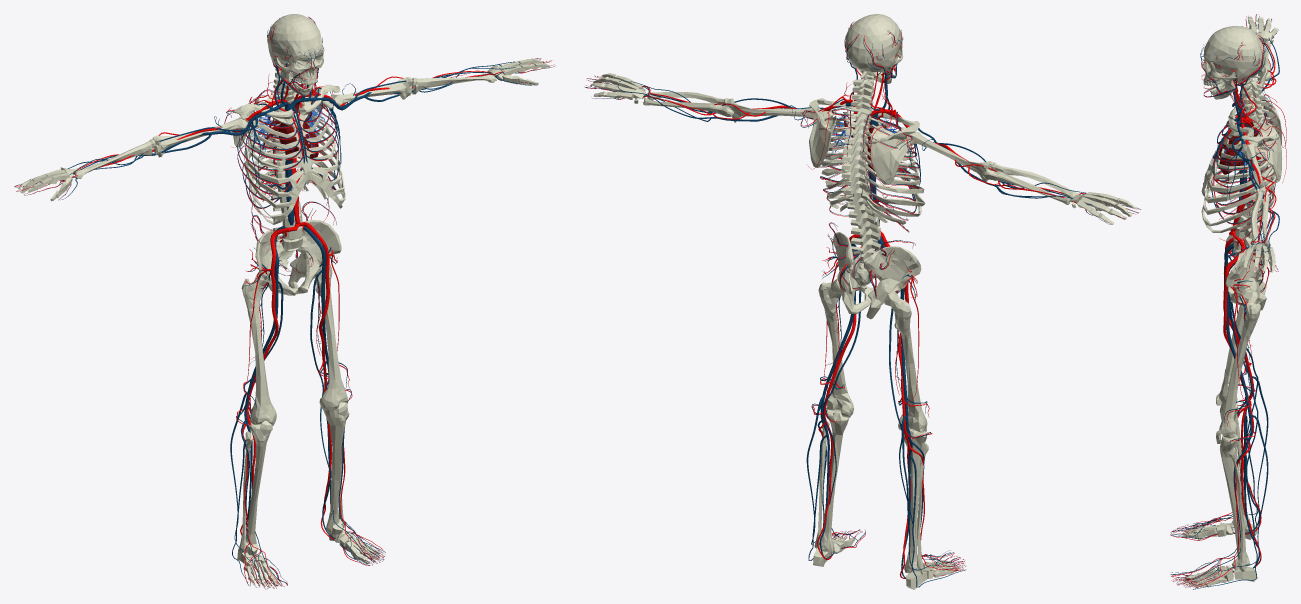
File: skeleton_veins.fbx
The picture shows the model from 3 angles, left to right: view 1: azimuth 30°, elevation 25°; view 2: azimuth 150°, elevation 25°; view 3: azimuth 270°, elevation 25°; orthographic projection. The views are drawn at different scales.
Visible parts, largest first — view 1: Veins, Arteries, Thorax, Basin, Head, Right_Upperleg, Right_Lowerleg, Left_Lowerleg, Left_Upperleg, Right_Foot, Left_Foot, Left_Hand (+7 smaller); view 2: Veins, Arteries, Thorax, Basin, Head, Right_shoulder, Right_Upperleg, Right_Lowerleg, Left_Lowerleg, Left_Upperleg, Left_shoulder, Right_Forearm (+8 smaller); view 3: Veins, Arteries, Thorax, Head, Left_Upperleg, Left_Lowerleg, Basin, Left_shoulder, Left_Foot, Left_Hand, Neck, Right_Foot (+9 smaller).
Boxes of the visible parts, x1=… form: Veins: x1=14, y1=17, x2=554, y2=588; Arteries: x1=14, y1=16, x2=553, y2=589; Thorax: x1=244, y1=92, x2=345, y2=224; Basin: x1=255, y1=220, x2=341, y2=295; Head: x1=267, y1=14, x2=323, y2=82; Right_Upperleg: x1=241, y1=272, x2=276, y2=425; Right_Lowerleg: x1=239, y1=420, x2=272, y2=552; Left_Lowerleg: x1=323, y1=402, x2=349, y2=534; Left_Upperleg: x1=314, y1=264, x2=347, y2=411; Right_Foot: x1=237, y1=542, x2=278, y2=587; Left_Foot: x1=328, y1=519, x2=380, y2=563; Left_Hand: x1=487, y1=58, x2=550, y2=85; Veins: x1=585, y1=22, x2=1140, y2=587; Arteries: x1=585, y1=22, x2=1140, y2=578; Thorax: x1=821, y1=112, x2=925, y2=224; Basin: x1=832, y1=232, x2=921, y2=319; Head: x1=845, y1=14, x2=903, y2=72; Right_shoulder: x1=870, y1=112, x2=919, y2=184; Right_Upperleg: x1=884, y1=291, x2=927, y2=432; Right_Lowerleg: x1=904, y1=427, x2=928, y2=574; Left_Lowerleg: x1=814, y1=409, x2=848, y2=554; Left_Upperleg: x1=818, y1=278, x2=853, y2=417; Left_shoulder: x1=809, y1=98, x2=853, y2=167; Right_Forearm: x1=982, y1=162, x2=1079, y2=204; Veins: x1=1170, y1=14, x2=1279, y2=589; Arteries: x1=1170, y1=14, x2=1286, y2=587; Thorax: x1=1201, y1=107, x2=1282, y2=232; Head: x1=1202, y1=26, x2=1265, y2=83; Left_Upperleg: x1=1219, y1=291, x2=1260, y2=438; Left_Lowerleg: x1=1216, y1=429, x2=1249, y2=571; Basin: x1=1224, y1=235, x2=1266, y2=310; Left_shoulder: x1=1228, y1=119, x2=1281, y2=181; Left_Foot: x1=1182, y1=558, x2=1256, y2=588; Left_Hand: x1=1234, y1=243, x2=1275, y2=272; Neck: x1=1241, y1=75, x2=1268, y2=116; Right_Foot: x1=1182, y1=520, x2=1257, y2=539.
Size of the model in its own units: 1443 by 1383 by 276.
